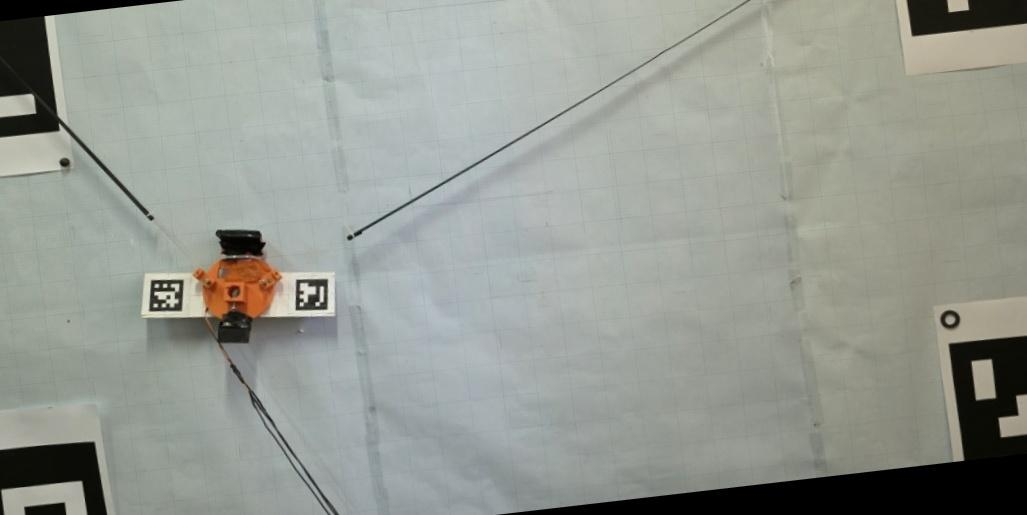robot: (192, 229, 281, 345)
